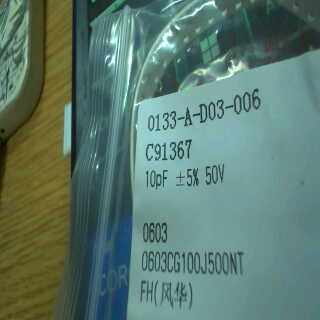10pF: (141, 166, 174, 192)
